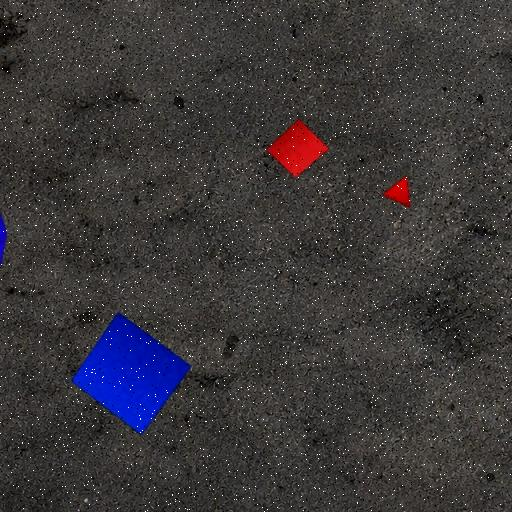BLUE_SQUARE: (70, 311, 192, 435)
RED_SQUARE: (266, 118, 330, 178)
